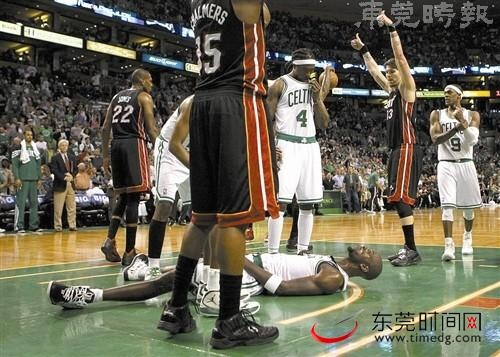falling: (33, 232, 398, 319)
